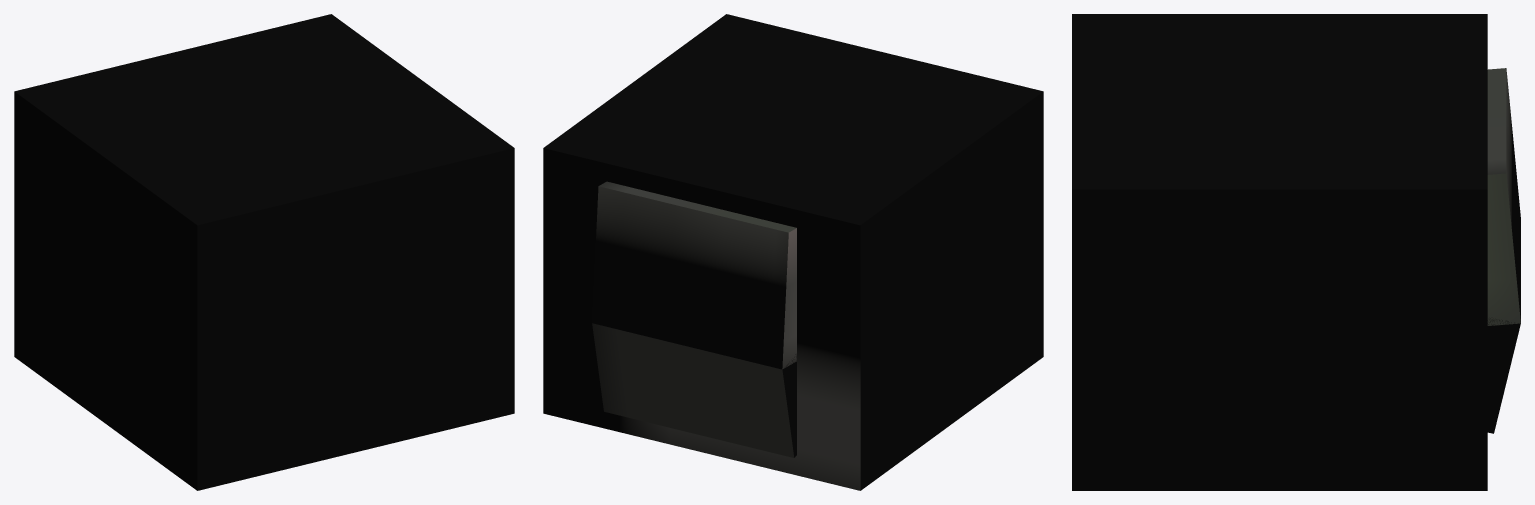
The model's file is ratnik_kneepads_p_r.obj.
3 views of the same model, side by side, from view 1: azimuth 30°, elevation 25°; view 2: azimuth 150°, elevation 25°; view 3: azimuth 270°, elevation 25° (orthographic). The views are drawn at different scales.
Parts seen in each view (by area): view 1: mesh; view 2: mesh; view 3: mesh.
Boxes of the visible parts, x1,y1,x2,y2 form: mesh: (14, 14, 514, 490); mesh: (543, 14, 1043, 490); mesh: (1072, 14, 1520, 490).
Bounding box in the file's own units: 0.3125 × 0.25 × 0.3375.
